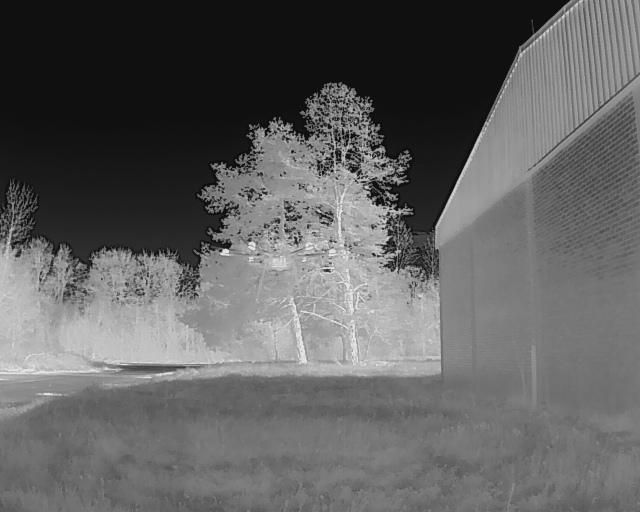drone: (204, 222, 358, 312)
